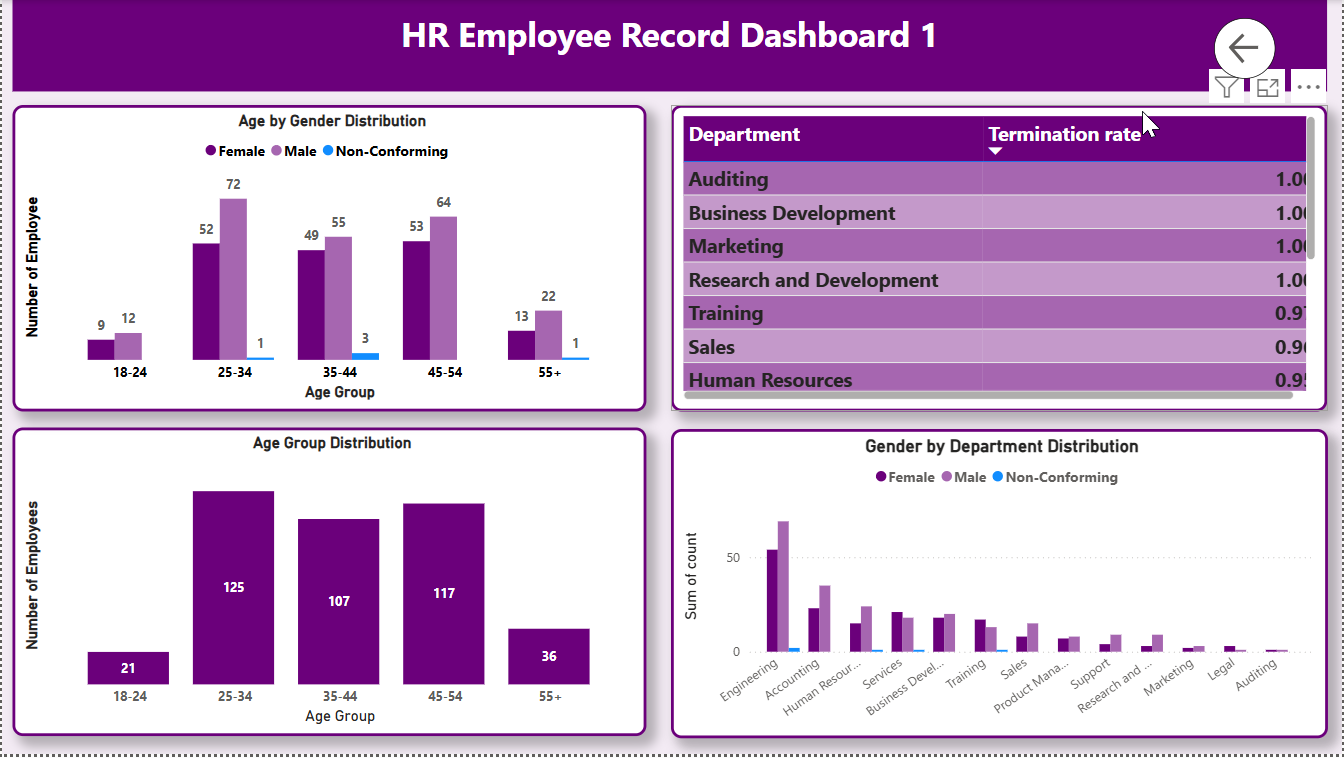

The dashboard page shown, as its layout file describes it:
{"tool":"powerbi","page":{"name":"Dashboard 2","canvas":[1280,720],"ordinal":1},"visuals":[{"type":"textbox","box":[10.7,0,1255.4,87.5],"z":0},{"type":"columnChart","title":"Age Group Distribution","fields":{"Category":["age_group_distribution.age_group"],"Y":["Sum(age_group_distribution.Count)"]},"box":[10.7,408.9,605.4,294.6],"z":1000},{"type":"clusteredColumnChart","title":"Age by Gender Distribution","fields":{"Category":["age_group_gender_distribution.age_group"],"Y":["Sum(age_group_gender_distribution.Count)"],"Series":["age_group_gender_distribution.gender"]},"box":[10.7,100,605.4,292.9],"z":2000},{"type":"tableEx","fields":{"Values":["department_termination_rate.department","Sum(department_termination_rate.termination_rate)"]},"box":[639.3,100,626.8,292.9],"z":3000},{"type":"clusteredColumnChart","title":"Gender by Department Distribution","fields":{"Category":["department_gender_distribution.department"],"Y":["Sum(department_gender_distribution.count)"],"Series":["department_gender_distribution.gender"]},"box":[639,409,627,295],"z":4000},{"type":"actionButton","box":[1157.1,17.9,58.9,58],"z":6500}]}

Visuals, with their boxes in screenshot pixels (x1, y1, x2, y2):
textbox: select_region(18, 4, 1318, 94)
"Age Group Distribution" columnChart: select_region(18, 427, 645, 732)
"Age by Gender Distribution" clusteredColumnChart: select_region(18, 107, 645, 410)
tableEx - department_termination_rate.department x Sum(department_termination_rate.termination_rate): select_region(669, 107, 1318, 410)
"Gender by Department Distribution" clusteredColumnChart: select_region(669, 427, 1318, 732)
actionButton: select_region(1205, 22, 1266, 82)
